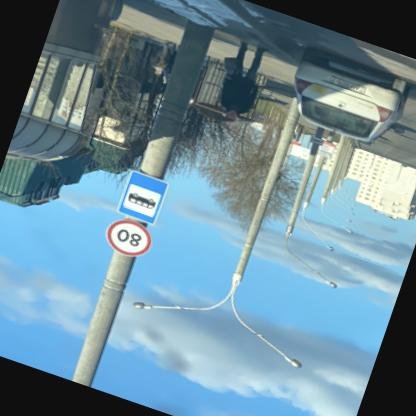speedlimit: (103, 217, 157, 264)
